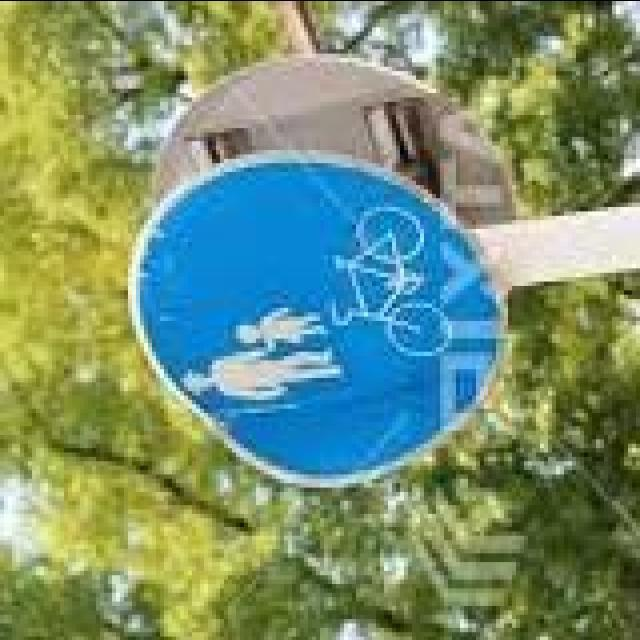obstructed_road_sign: (124, 146, 510, 482)
